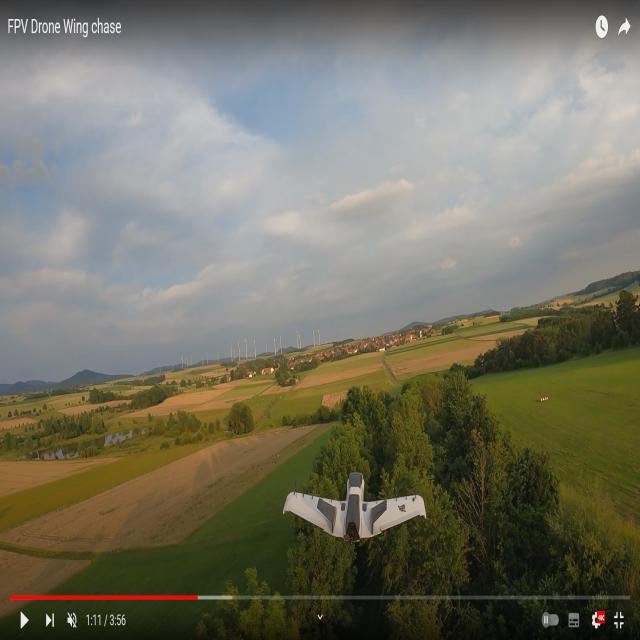iha: (287, 508, 428, 510)
